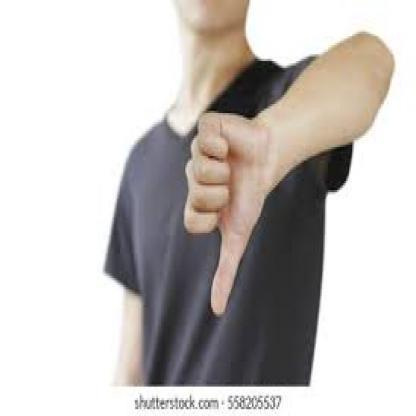thumb_down: (180, 104, 263, 320)
